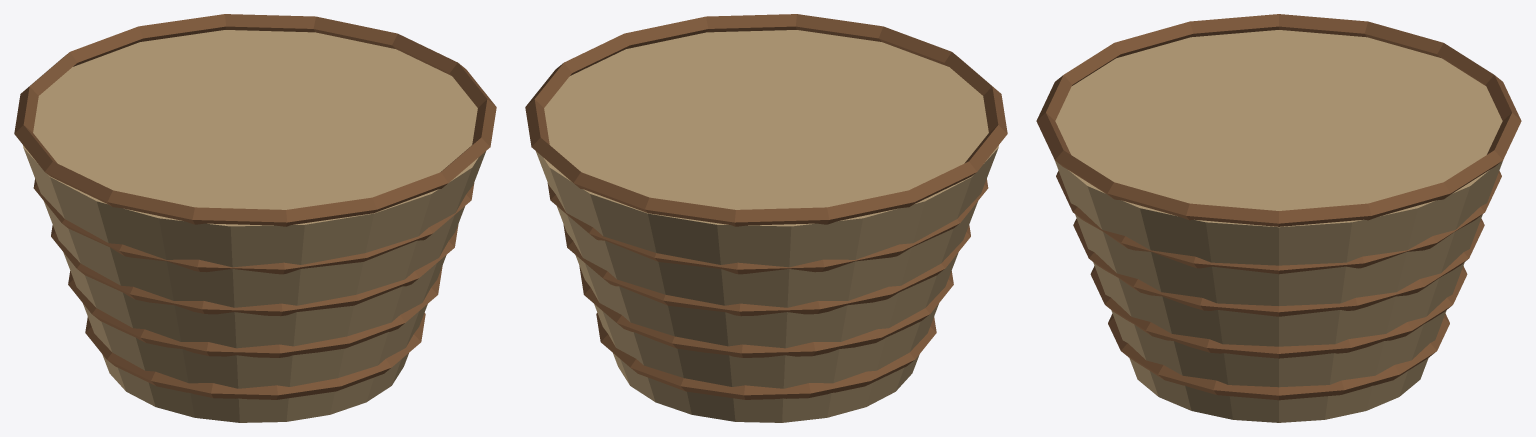
The model's file is basket-ultra.glb.
3 views of the same model, side by side, from view 1: azimuth 30°, elevation 25°; view 2: azimuth 150°, elevation 25°; view 3: azimuth 270°, elevation 25° (orthographic).
Parts seen in each view (by area): view 1: basket; view 2: basket; view 3: basket.
Part boxes in pixels (left/top/right/bottom): basket: left=14, top=14, right=496, bottom=422; basket: left=525, top=14, right=1007, bottom=422; basket: left=1036, top=14, right=1521, bottom=422.
Bounding box in the file's own units: 0.7176 × 0.404 × 0.7176.
